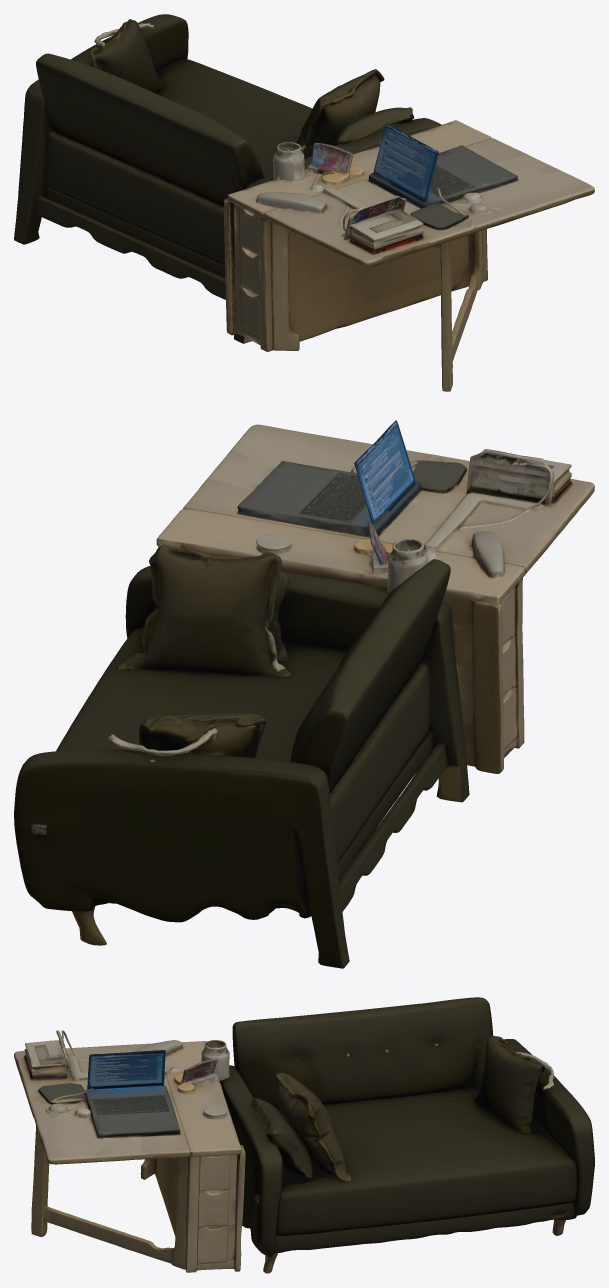
The model's file is tripo.glb.
The picture shows the model from 3 angles, top to bottom: view 1: azimuth 30°, elevation 25°; view 2: azimuth 150°, elevation 25°; view 3: azimuth 270°, elevation 25°; orthographic projection. The views are drawn at different scales.
Visible parts, largest first — view 1: tripo_node_98938bdf-23b6-43a7-b700-c26bbc4d760c; view 2: tripo_node_98938bdf-23b6-43a7-b700-c26bbc4d760c; view 3: tripo_node_98938bdf-23b6-43a7-b700-c26bbc4d760c.
Boxes of the visible parts, left/top/right/bottom form: tripo_node_98938bdf-23b6-43a7-b700-c26bbc4d760c: left=14, top=14, right=594, bottom=391; tripo_node_98938bdf-23b6-43a7-b700-c26bbc4d760c: left=14, top=420, right=594, bottom=968; tripo_node_98938bdf-23b6-43a7-b700-c26bbc4d760c: left=14, top=997, right=594, bottom=1273.
Bounding box in the file's own units: 0.6024 × 0.3763 × 1.04.
Materials: 1 (1 with a texture image).
